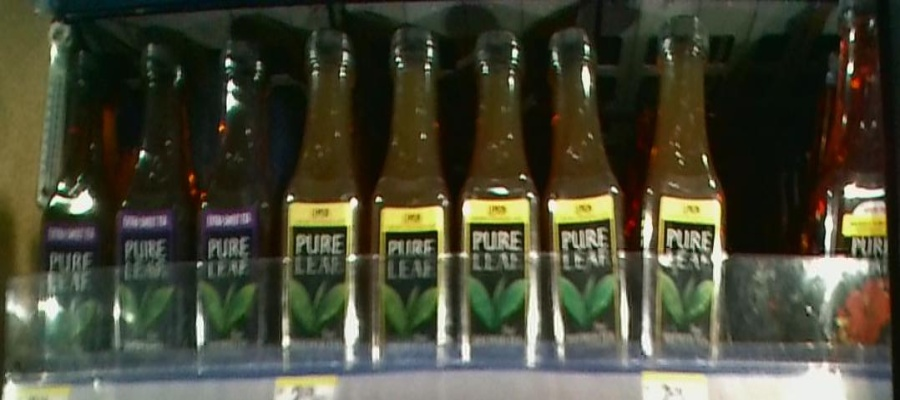bottle: (538, 24, 639, 394), (275, 33, 369, 384), (640, 16, 726, 394), (458, 19, 536, 394), (373, 29, 454, 385), (195, 38, 274, 384), (114, 44, 193, 385), (826, 7, 897, 382), (37, 45, 110, 381)
